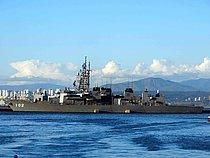MIL_Ship: (3, 58, 207, 115)
